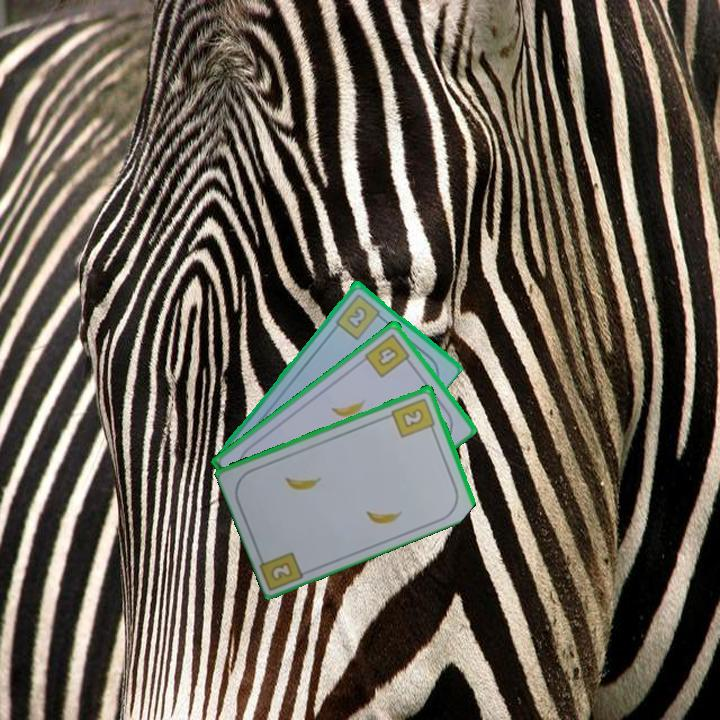2b: (332, 290, 387, 342), (388, 394, 438, 440), (267, 558, 296, 584)
4b: (361, 329, 415, 380)
